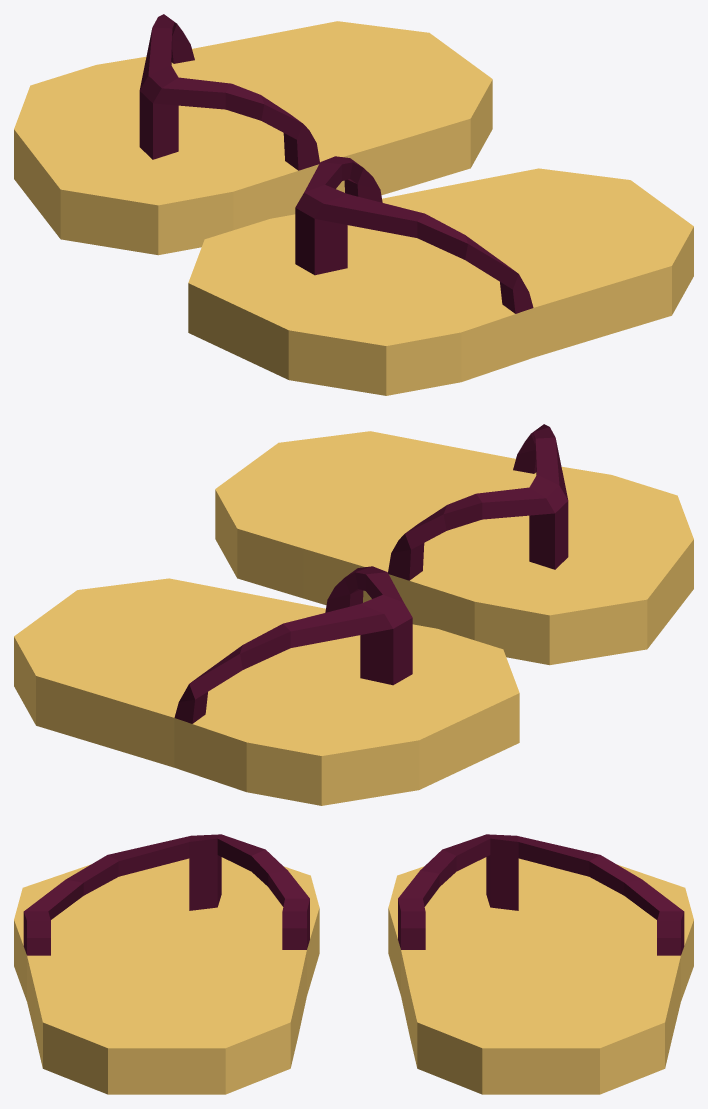
The model's file is flip_flops_garden.fbx.
3 renders of one model, top to bottom at view 1: azimuth 30°, elevation 25°; view 2: azimuth 150°, elevation 25°; view 3: azimuth 270°, elevation 25°, orthographic. The views are drawn at different scales.
Visible parts, largest first — view 1: flip_flops_garden, Plane.002; view 2: flip_flops_garden, Plane.002; view 3: flip_flops_garden, Plane.002.
Boxes of the visible parts, x1,y1,x2,y2 form: flip_flops_garden: (14,21,693,395); Plane.002: (139,14,533,313); flip_flops_garden: (14,431,693,805); Plane.002: (174,424,568,723); flip_flops_garden: (14,857,693,1094); Plane.002: (23,834,684,955).
Size of the model in its own units: 34.22 by 9.27 by 49.53.
